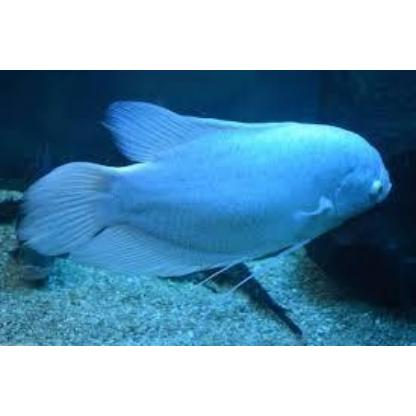gurame: (27, 110, 395, 276)
